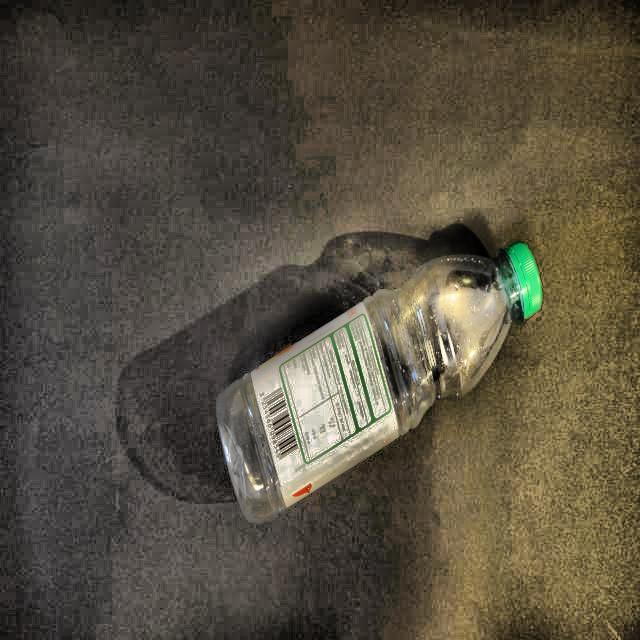plastic bottle: (218, 243, 542, 522)
